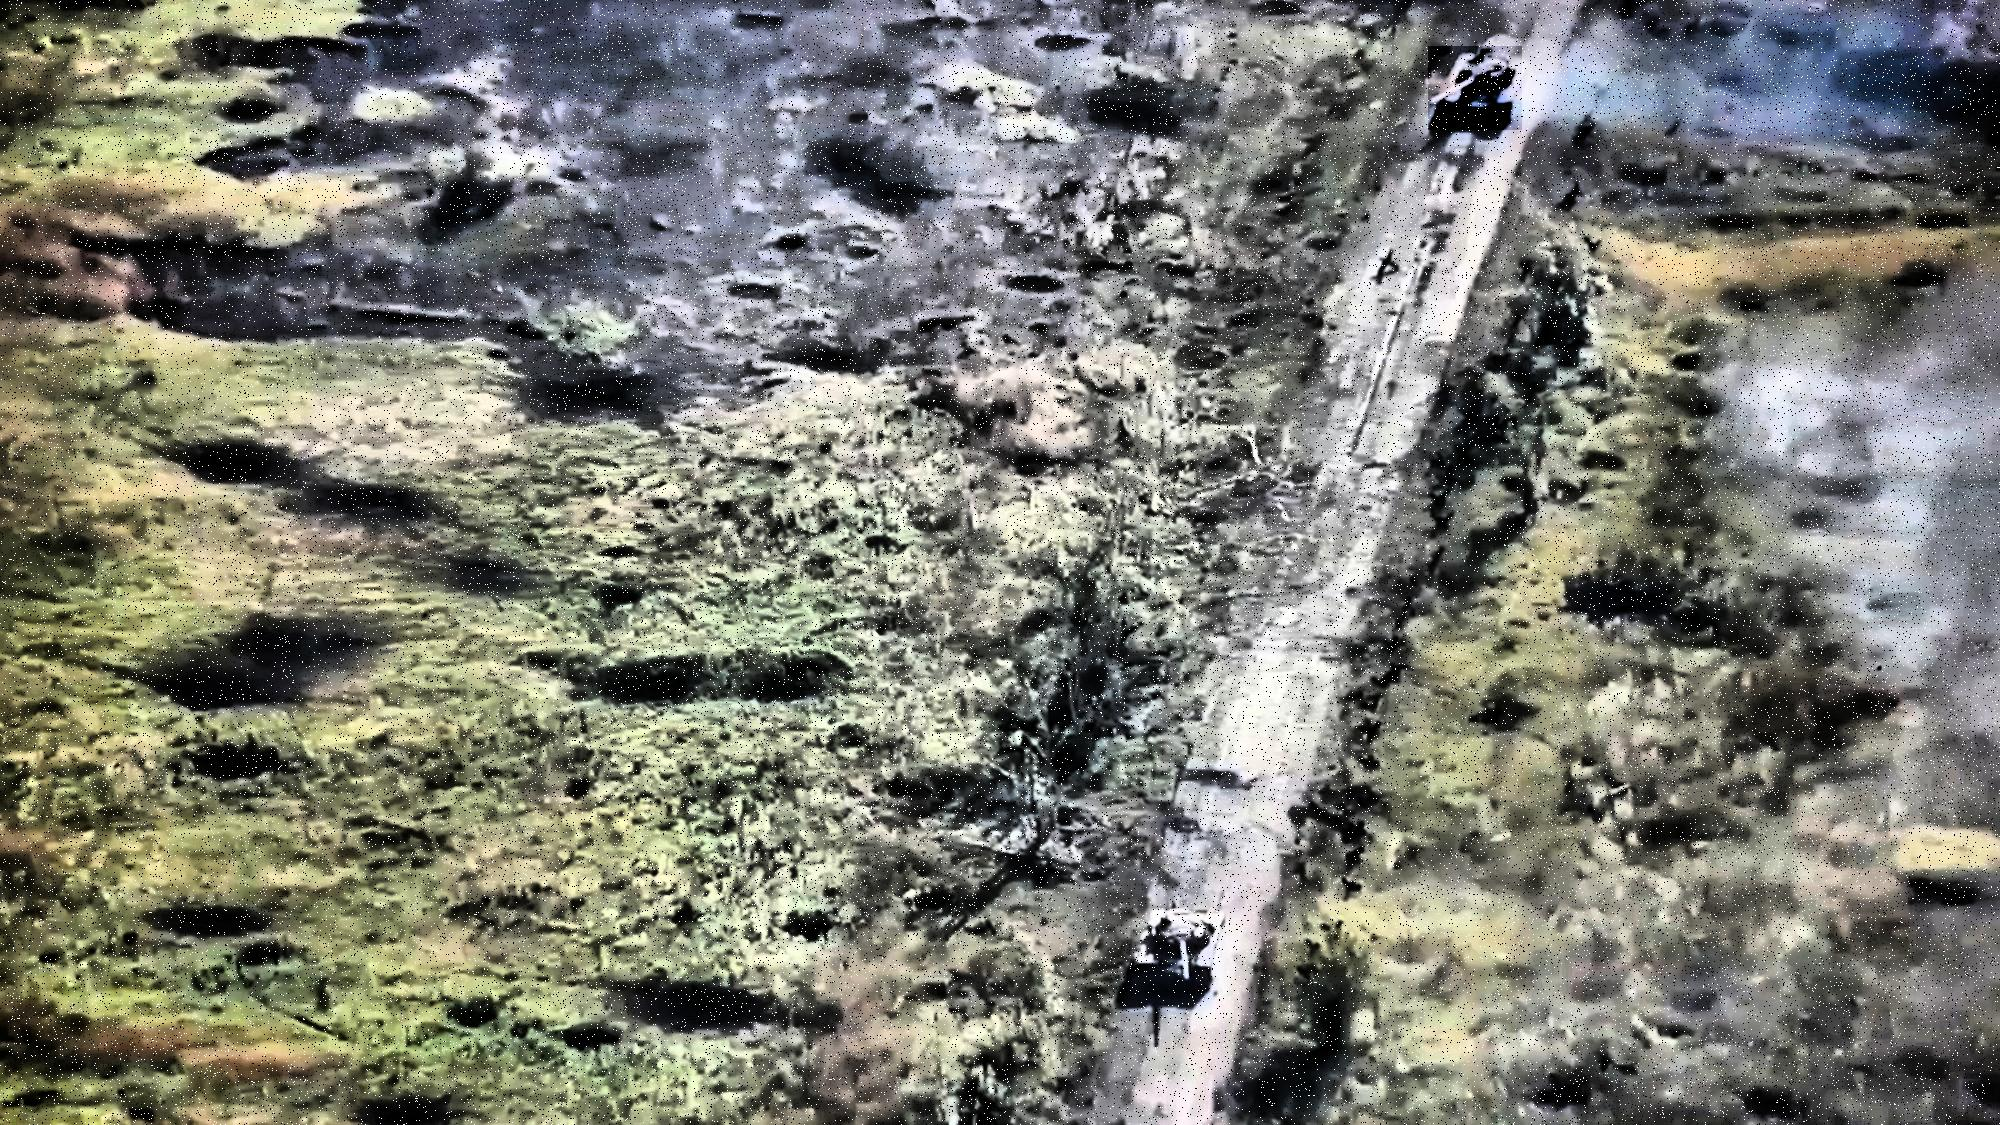military-vehicle: (1428, 46, 1522, 130), (1132, 908, 1224, 990)
